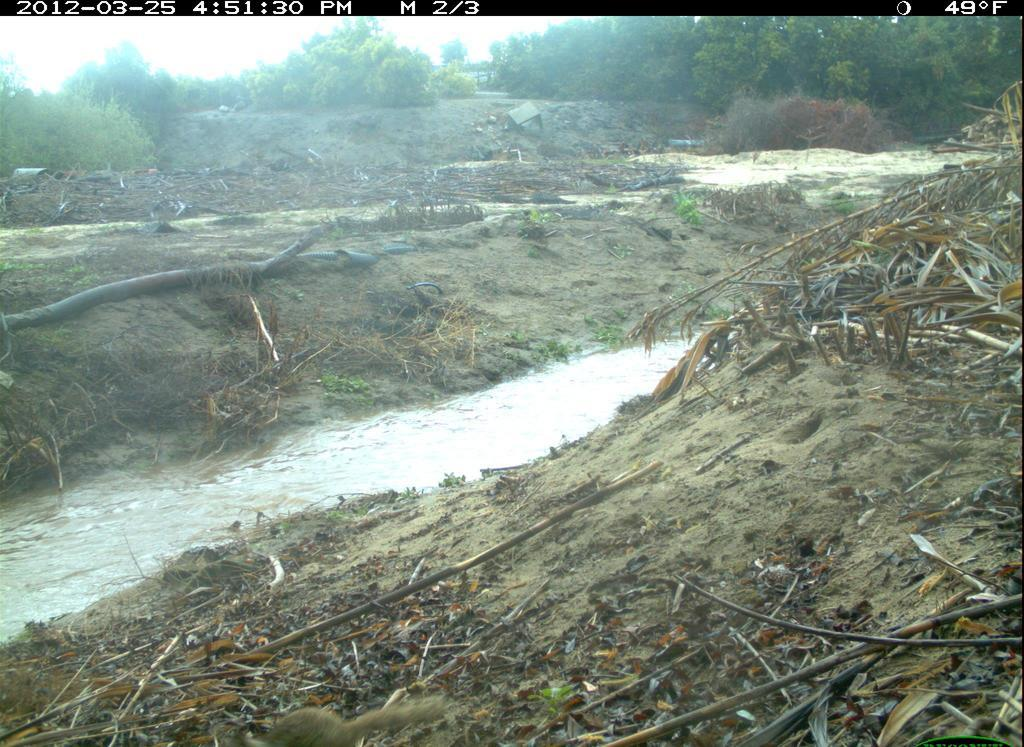squirrel: (230, 685, 450, 745)
